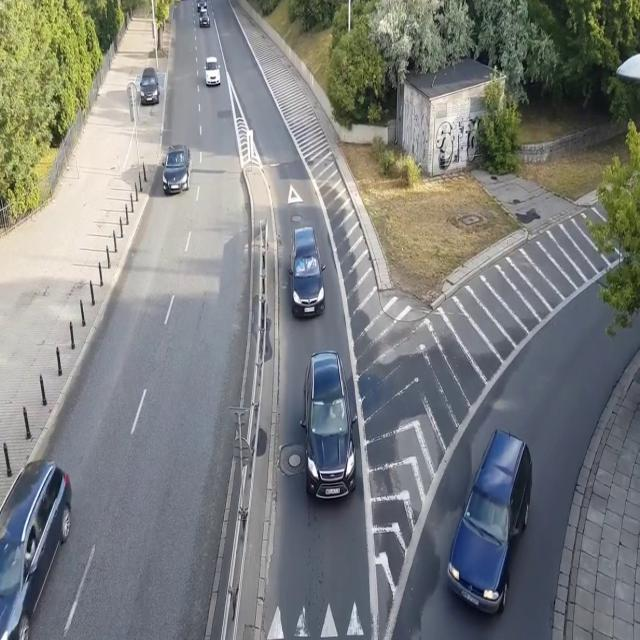car: (444, 424, 533, 617), (0, 458, 73, 640), (298, 351, 359, 505), (287, 221, 327, 320), (161, 139, 193, 196), (140, 67, 160, 106), (204, 54, 221, 87), (199, 9, 209, 28), (196, 0, 208, 10)
